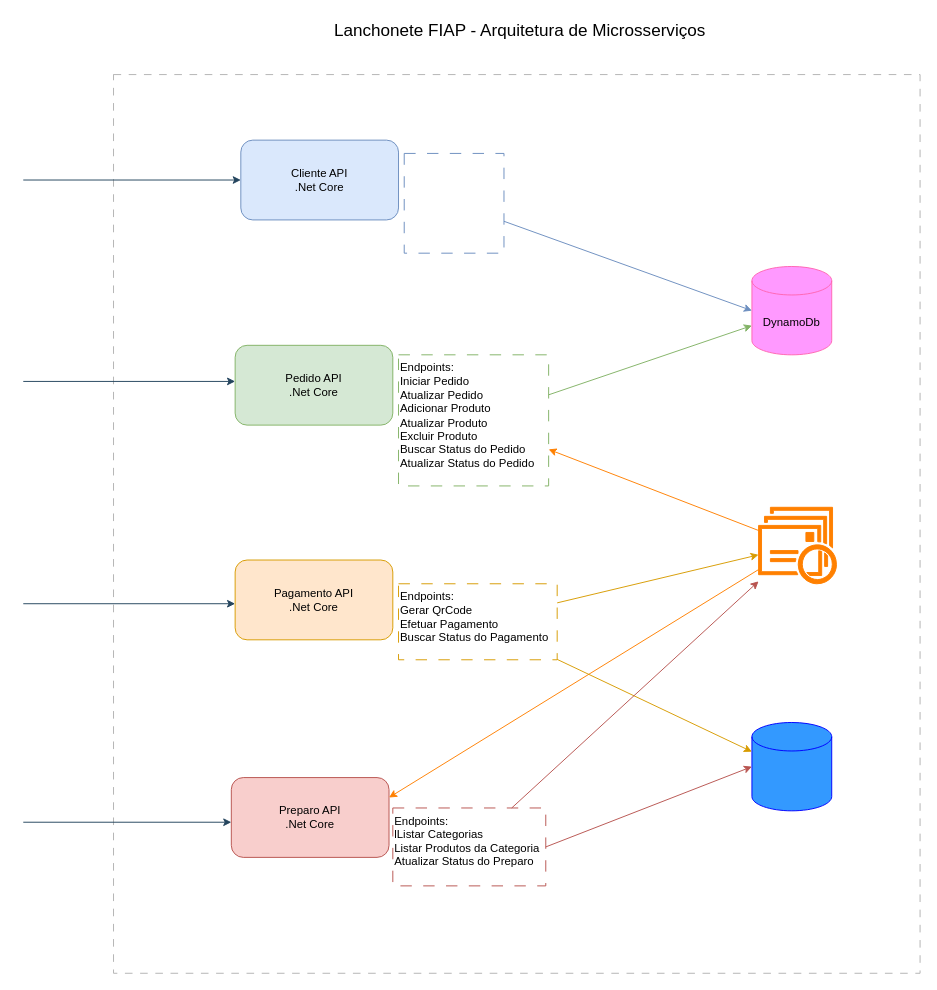
Image size: 937x990. Some labels were removed from this diagram. Each missing label, with the centre of its shape:
"Endpoints: Get Cliente Post Cliente Put Cliente Delete Cliente Autentica Cliente" belongs at (453,202).
"Mysql" belongs at (791,766).
"Queue" belongs at (797,545).
